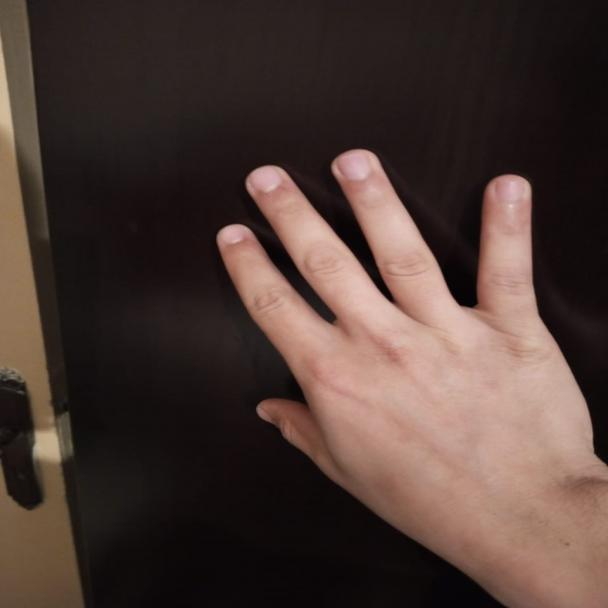five: (203, 138, 583, 503)
